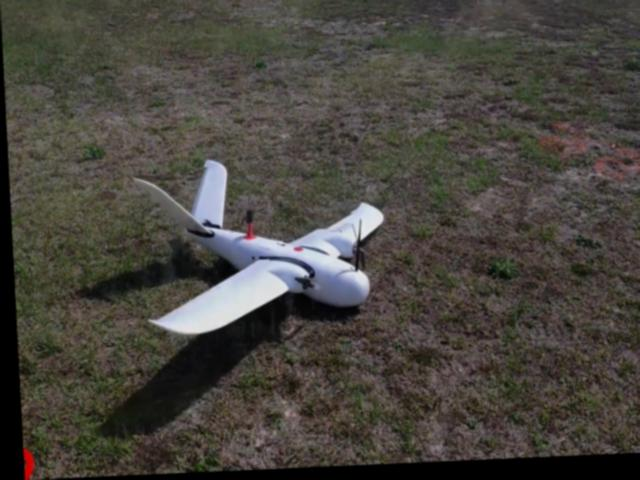plane: (130, 158, 386, 337)
